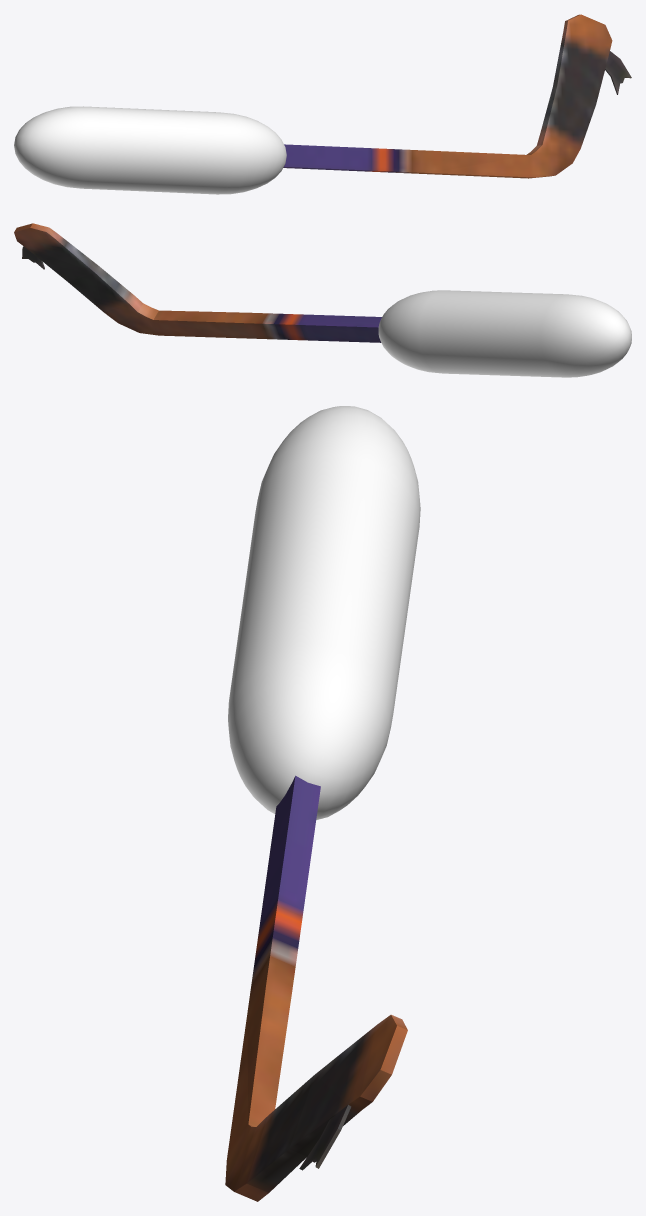
Rendered from HockeyStickAAnchor.fbx.
3 views of the same model, one above another, from view 1: azimuth 30°, elevation 25°; view 2: azimuth 150°, elevation 25°; view 3: azimuth 270°, elevation 25° (orthographic). The views are drawn at different scales.
Parts seen in each view (by area): view 1: HockeyStickA_InteractionPoint, LMADJ_; view 2: HockeyStickA_InteractionPoint, LMADJ_; view 3: HockeyStickA_InteractionPoint, LMADJ_.
Part boxes in pixels (x1,y1,x2,y2): HockeyStickA_InteractionPoint: [14, 106, 286, 194]; LMADJ_: [283, 14, 631, 178]; HockeyStickA_InteractionPoint: [378, 290, 631, 377]; LMADJ_: [14, 223, 381, 342]; HockeyStickA_InteractionPoint: [228, 406, 420, 819]; LMADJ_: [225, 775, 407, 1201].
Bounding box in the file's own units: 106 × 26.9 × 14.78.
